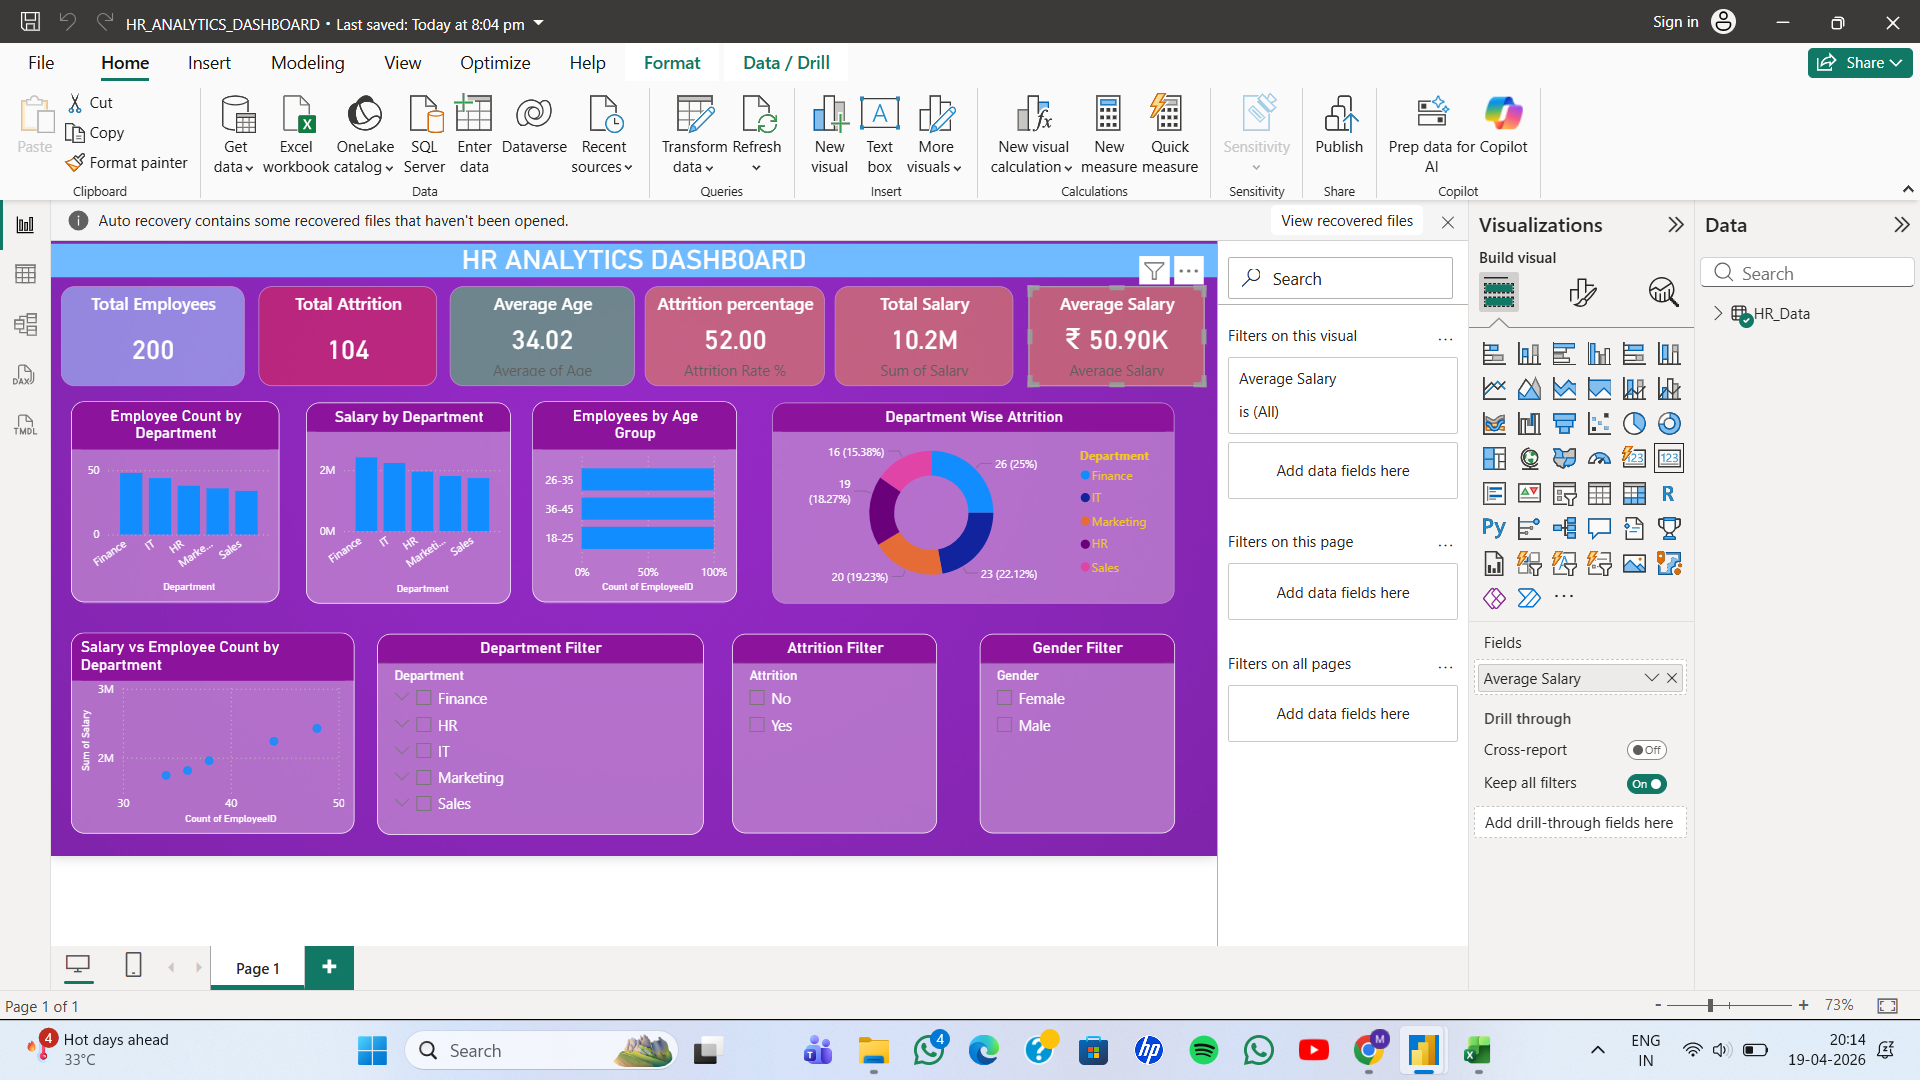

Layout of this report page (visuals, bound fields, positions):
{"tool":"powerbi","page":{"name":"Page 1","canvas":[1280,720],"ordinal":0},"visuals":[{"type":"card","title":"Total Employees","fields":{"Values":["CountNonNull(HR_Data.EmployeeID)"]},"box":[11,94.7,201.7,109.8],"z":0},{"type":"card","title":" Total Attrition","fields":{"Values":["Sum(HR_Data.Attrition column)"]},"box":[227.8,94.7,196.2,109.8],"z":1000},{"type":"card","title":"Average Age","fields":{"Values":["Avg(HR_Data.Age)"]},"box":[437.7,94.7,203.1,109.8],"z":2000},{"type":"donutChart","title":"Department Wise Attrition","fields":{"Category":["HR_Data.Department"],"Y":["Sum(HR_Data.Attrition column)"]},"box":[791.8,222.3,441.9,220.9],"z":3000},{"type":"columnChart","title":"Employee Count by Department","fields":{"Category":["HR_Data.Department"],"Y":["CountNonNull(HR_Data.EmployeeID)"]},"box":[22,220.9,229.2,220.9],"z":4000},{"type":"columnChart","title":" Salary by Department","fields":{"Category":["HR_Data.Department"],"Y":["Sum(HR_Data.Salary)"]},"box":[279.9,222.3,225,220.9],"z":5000},{"type":"scatterChart","title":" Salary vs Employee Count by Department","fields":{"Category":["HR_Data.Department"],"X":["CountNonNull(HR_Data.EmployeeID)"],"Y":["Sum(HR_Data.Salary)"]},"box":[22,474.8,311.5,220.9],"z":6000},{"type":"slicer","title":"Attrition Filter","fields":{"Values":["HR_Data.Attrition"]},"box":[747.9,476.2,225,219.6],"z":7000},{"type":"slicer","title":" Department Filter","fields":{"Values":["HR_Data.Department","HR_Data.Salary"]},"box":[358.1,476.2,358.1,220.9],"z":8000},{"type":"slicer","title":"Gender Filter","fields":{"Values":["HR_Data.Gender"]},"box":[1019.6,476.2,214.1,219.6],"z":9000},{"type":"shape","title":"HR ANALYTICS DASHBOARD","box":[0,48,1280.3,37],"z":10000},{"type":"card","title":"Attrition percentage","fields":{"Values":["HR_Data.Attrition Rate %"]},"box":[651.8,94.7,197.6,109.8],"z":11000},{"type":"hundredPercentStackedBarChart","title":"Employees by Age Group","fields":{"Y":["CountNonNull(HR_Data.EmployeeID)"],"Category":["HR_Data.Age Group","HR_Data.Age Order"]},"box":[528.3,220.9,225,220.9],"z":12000},{"type":"card","title":"Average Salary","fields":{"Values":["HR_Data.Average Salary"]},"box":[1073.1,94.7,193.5,109.8],"z":13000},{"type":"card","title":"Total Salary","fields":{"Values":["Sum(HR_Data.Salary)"]},"box":[860.4,94.7,196.2,109.8],"z":14000}]}

Visuals, with their boxes on the page's 1280x720 design canvas (x1, y1, x2, y2). These are canvas units, not pixel positions in the 1920x1080 screenshot, which may show the page scaled, cropped or inside an application window:
"Total Employees" card: BBox(11, 95, 213, 204)
" Total Attrition" card: BBox(228, 95, 424, 204)
"Average Age" card: BBox(438, 95, 641, 204)
"Department Wise Attrition" donutChart: BBox(792, 222, 1234, 443)
"Employee Count by Department" columnChart: BBox(22, 221, 251, 442)
" Salary by Department" columnChart: BBox(280, 222, 505, 443)
" Salary vs Employee Count by Department" scatterChart: BBox(22, 475, 334, 696)
"Attrition Filter" slicer: BBox(748, 476, 973, 696)
" Department Filter" slicer: BBox(358, 476, 716, 697)
"Gender Filter" slicer: BBox(1020, 476, 1234, 696)
"HR ANALYTICS DASHBOARD" shape: BBox(0, 48, 1280, 85)
"Attrition percentage" card: BBox(652, 95, 849, 204)
"Employees by Age Group" hundredPercentStackedBarChart: BBox(528, 221, 753, 442)
"Average Salary" card: BBox(1073, 95, 1267, 204)
"Total Salary" card: BBox(860, 95, 1057, 204)
